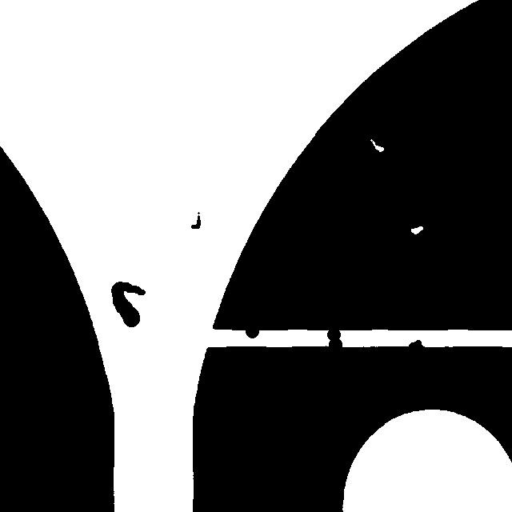copper: (103, 274, 153, 334), (183, 204, 208, 236)
pin-hole: (362, 131, 391, 158), (403, 218, 430, 240)
short: (319, 320, 350, 358)
spur: (238, 317, 266, 346), (401, 332, 430, 359)
